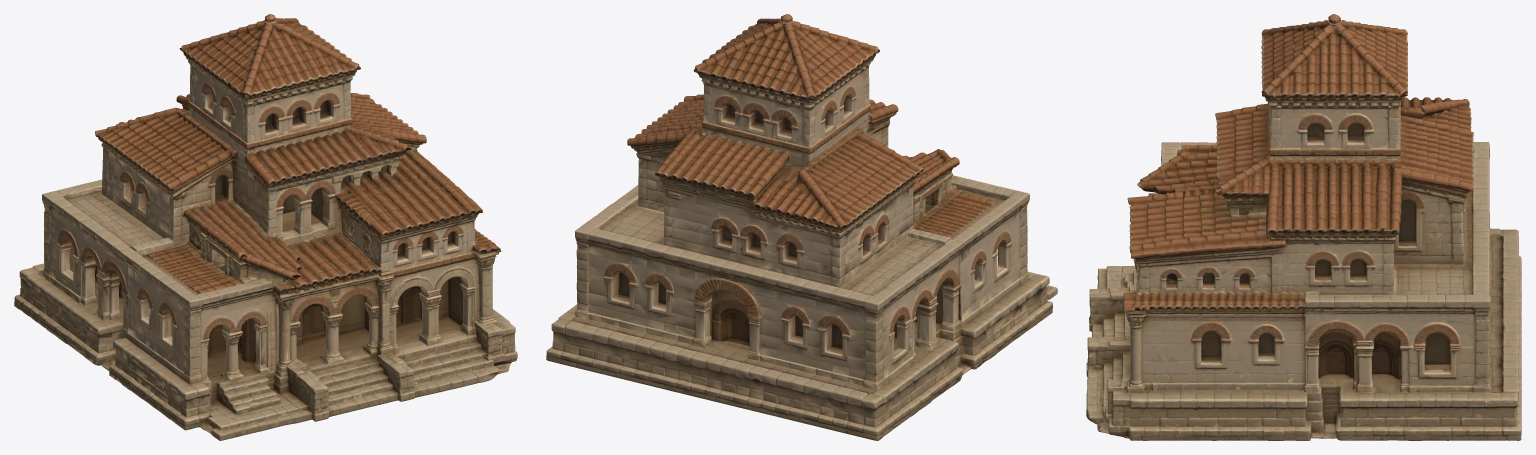
File: byzantine.glb
The picture shows the model from 3 angles, left to right: view 1: azimuth 30°, elevation 25°; view 2: azimuth 150°, elevation 25°; view 3: azimuth 270°, elevation 25°; orthographic projection. The views are drawn at different scales.
Visible parts, largest first — view 1: tripo_node_c008a51d-569d-4e9f-be00-7765eabd2b9b; view 2: tripo_node_c008a51d-569d-4e9f-be00-7765eabd2b9b; view 3: tripo_node_c008a51d-569d-4e9f-be00-7765eabd2b9b.
Boxes of the visible parts, box(x1,y1,x2,y2) form: tripo_node_c008a51d-569d-4e9f-be00-7765eabd2b9b: box(14, 14, 517, 440); tripo_node_c008a51d-569d-4e9f-be00-7765eabd2b9b: box(546, 14, 1057, 440); tripo_node_c008a51d-569d-4e9f-be00-7765eabd2b9b: box(1086, 14, 1521, 440).
Size of the model in its own units: 0.9334 by 0.8589 by 0.9789.
1 material, 1 textured.
